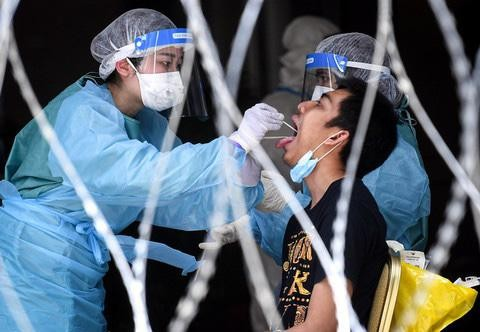Coverall: (1, 76, 206, 332)
Face_Shield: (122, 25, 212, 124), (297, 51, 379, 112)
Gloves: (226, 98, 284, 157), (249, 167, 294, 216), (195, 217, 254, 251)
mask_weared_incorrect: (273, 87, 336, 183)
with_mask: (136, 49, 188, 114)
